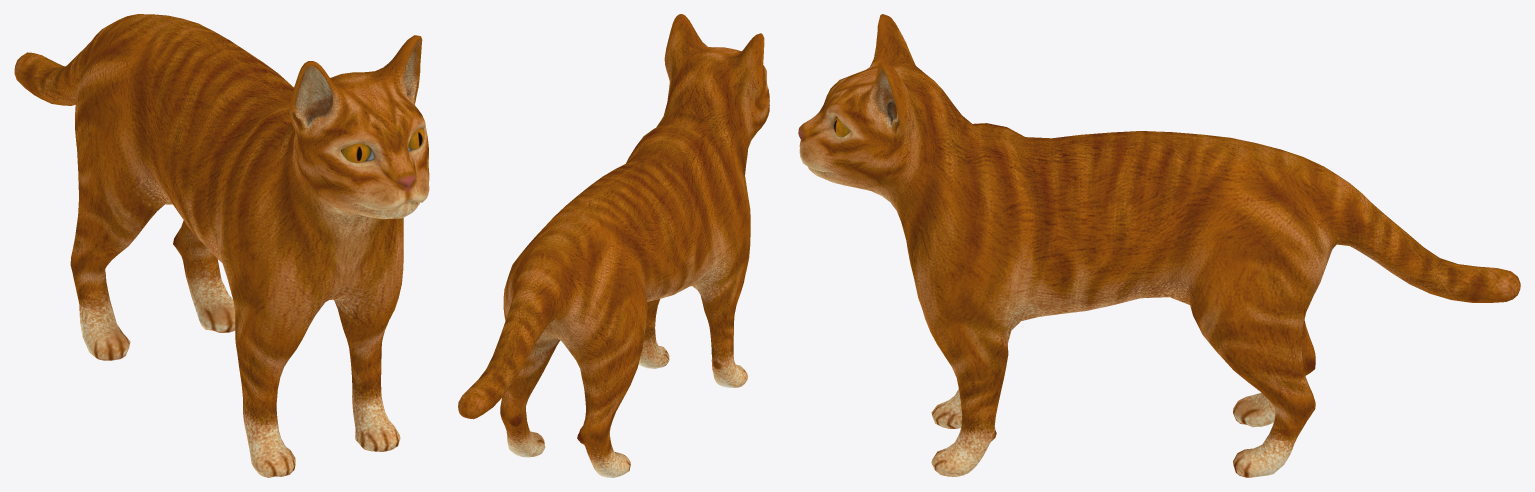
Rendered from orange_cat_loading_scene.glb.
3 renders of one model, left to right at view 1: azimuth 30°, elevation 25°; view 2: azimuth 150°, elevation 25°; view 3: azimuth 270°, elevation 25°, orthographic. The views are drawn at different scales.
Visible parts, largest first — view 1: Plane; view 2: Plane; view 3: Plane.
Boxes of the visible parts, x1=… form: Plane: x1=14, y1=14, x2=429, y2=477; Plane: x1=458, y1=14, x2=769, y2=477; Plane: x1=798, y1=14, x2=1520, y2=477.
Bounding box in the file's own units: 0.1835 × 0.4795 × 0.77.
Materials: 1 (1 with a texture image).
